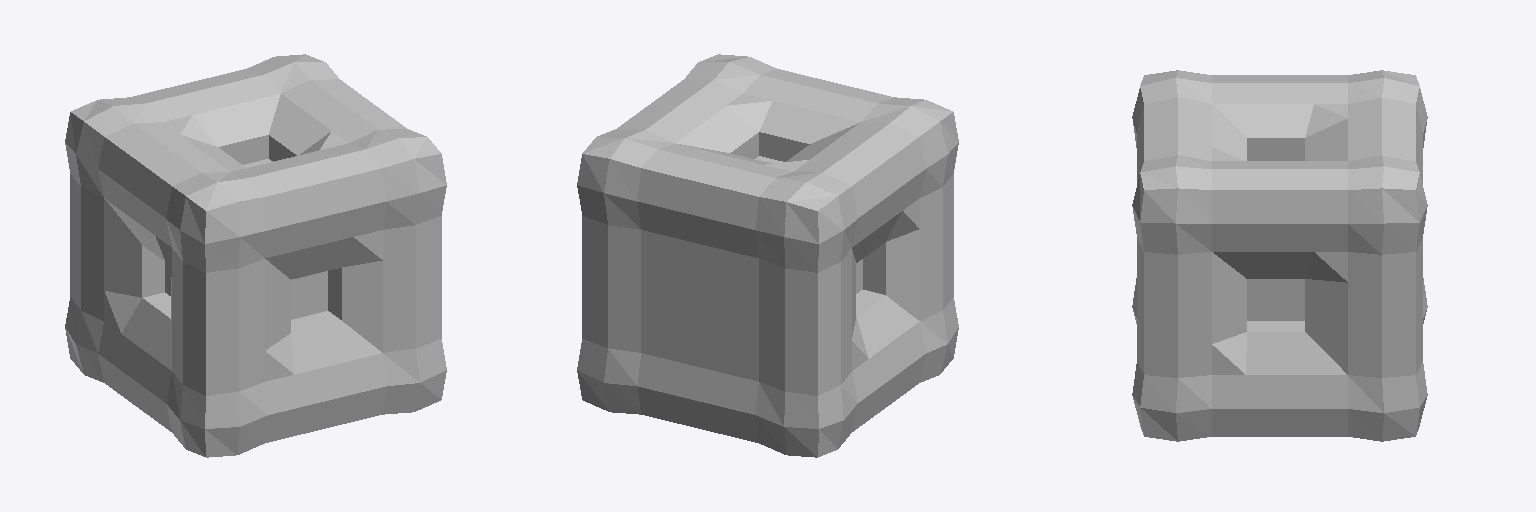
The model's file is Robot Body.obj.
3 views of the same model, side by side, from view 1: azimuth 30°, elevation 25°; view 2: azimuth 150°, elevation 25°; view 3: azimuth 270°, elevation 25° (orthographic).
Parts seen in each view (by area): view 1: Cube; view 2: Cube; view 3: Cube.
Part boxes in pixels (x1,y1,x2,y2): Cube: (65,54,446,457); Cube: (577,54,958,457); Cube: (1132,70,1427,441).
Size of the model in its own units: 0.4346 by 0.4346 by 0.4346.